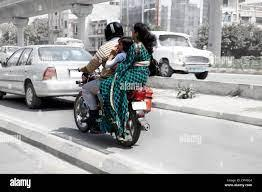helmet: (104, 21, 124, 42)
nohelmet: (130, 21, 151, 44), (117, 36, 133, 55)
